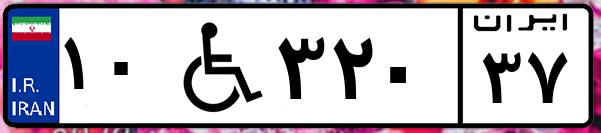0: (385, 28, 445, 110), (110, 28, 158, 98)
1: (57, 26, 110, 100)
2: (330, 28, 385, 110)
3: (270, 28, 330, 110), (475, 38, 525, 113)
7: (525, 38, 570, 115)
ژ (معلولین و جانبازان): (158, 12, 270, 120)
